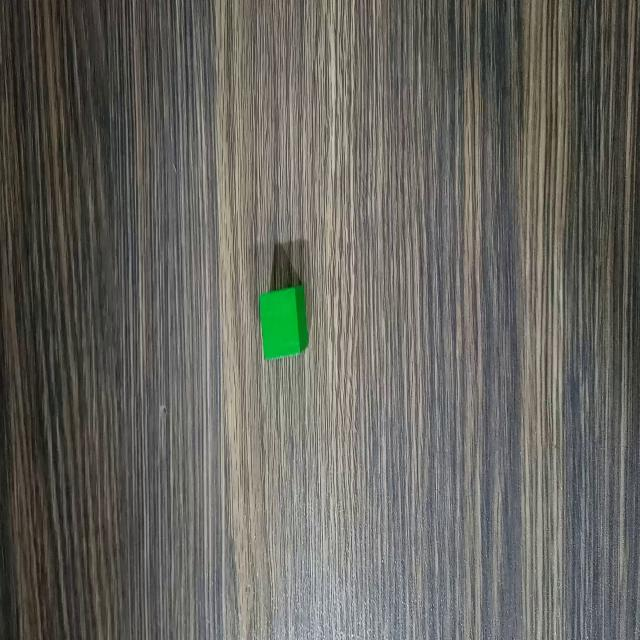cube: (255, 278, 312, 364)
